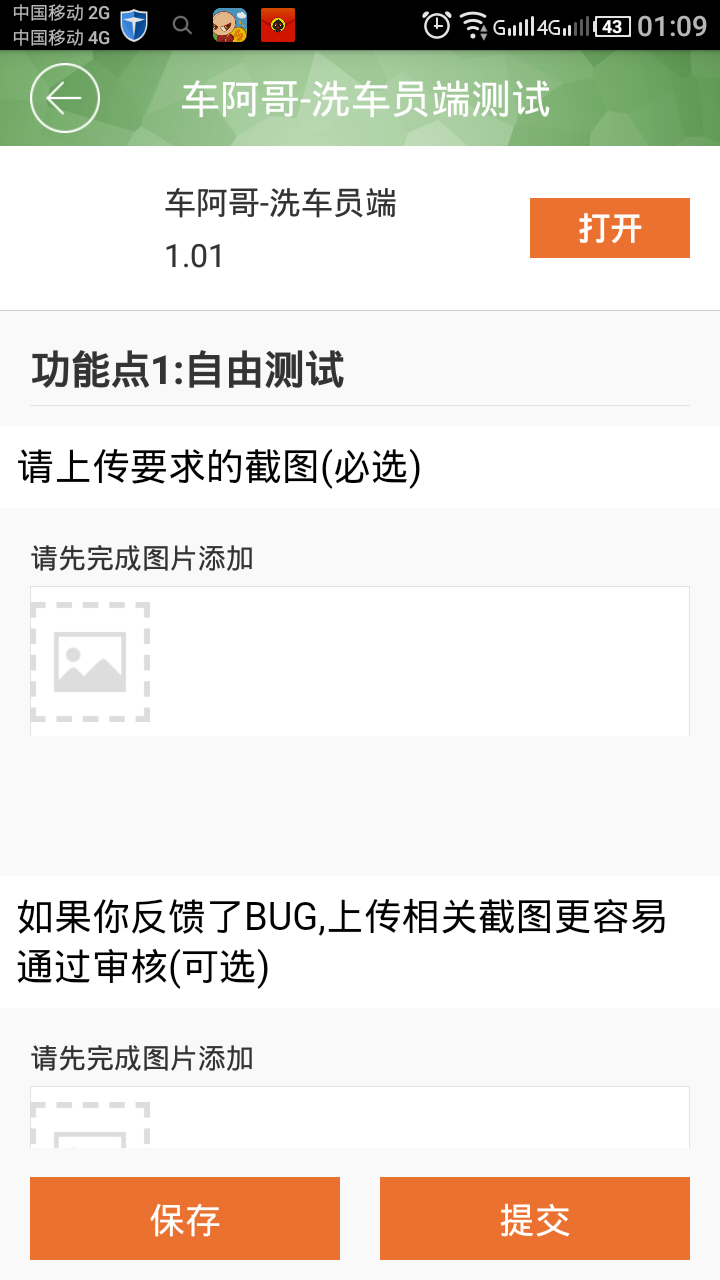button: (362, 1163, 696, 1280), (20, 1163, 356, 1271), (514, 185, 690, 268)
imgbutton: (21, 58, 108, 141)
imgview: (16, 323, 720, 509), (10, 880, 720, 1011)
